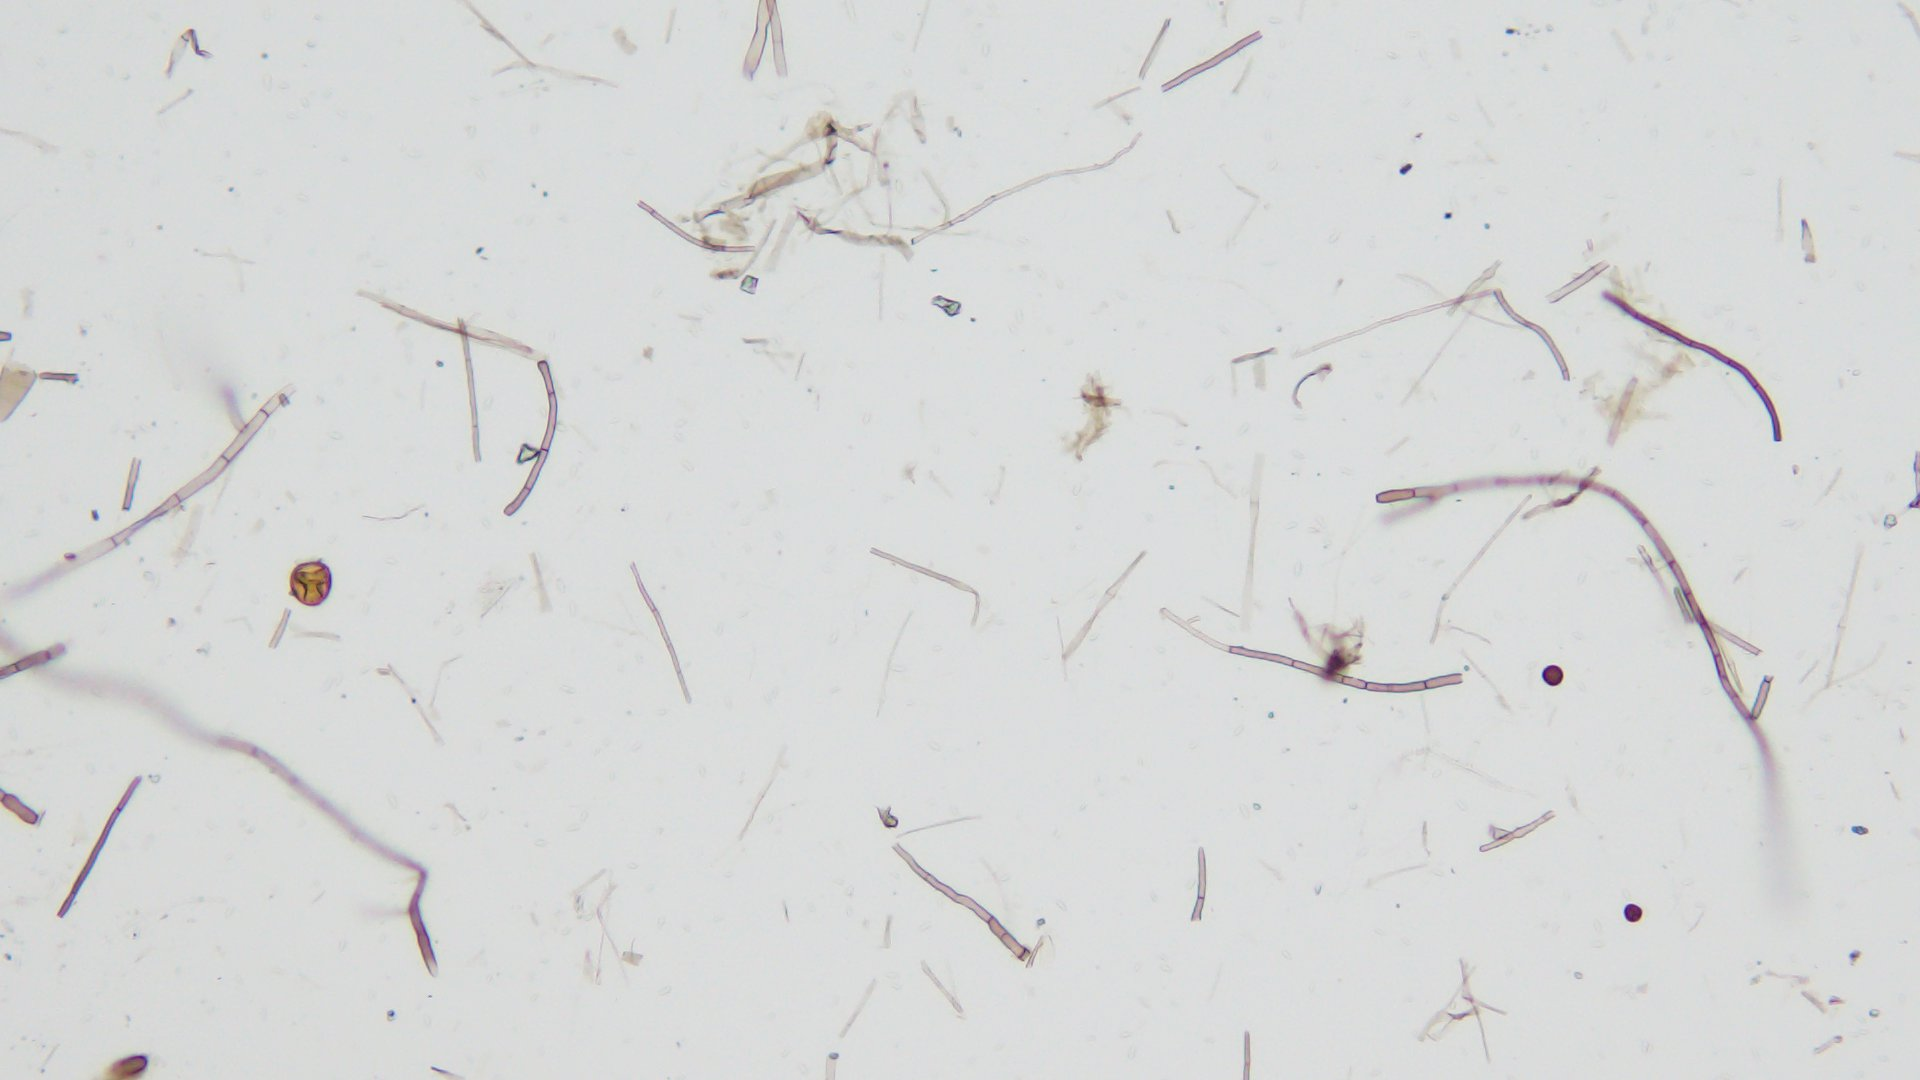shs_spore: (1542, 665, 1565, 687), (1623, 902, 1644, 924)
xb_spore: (287, 562, 336, 607)
